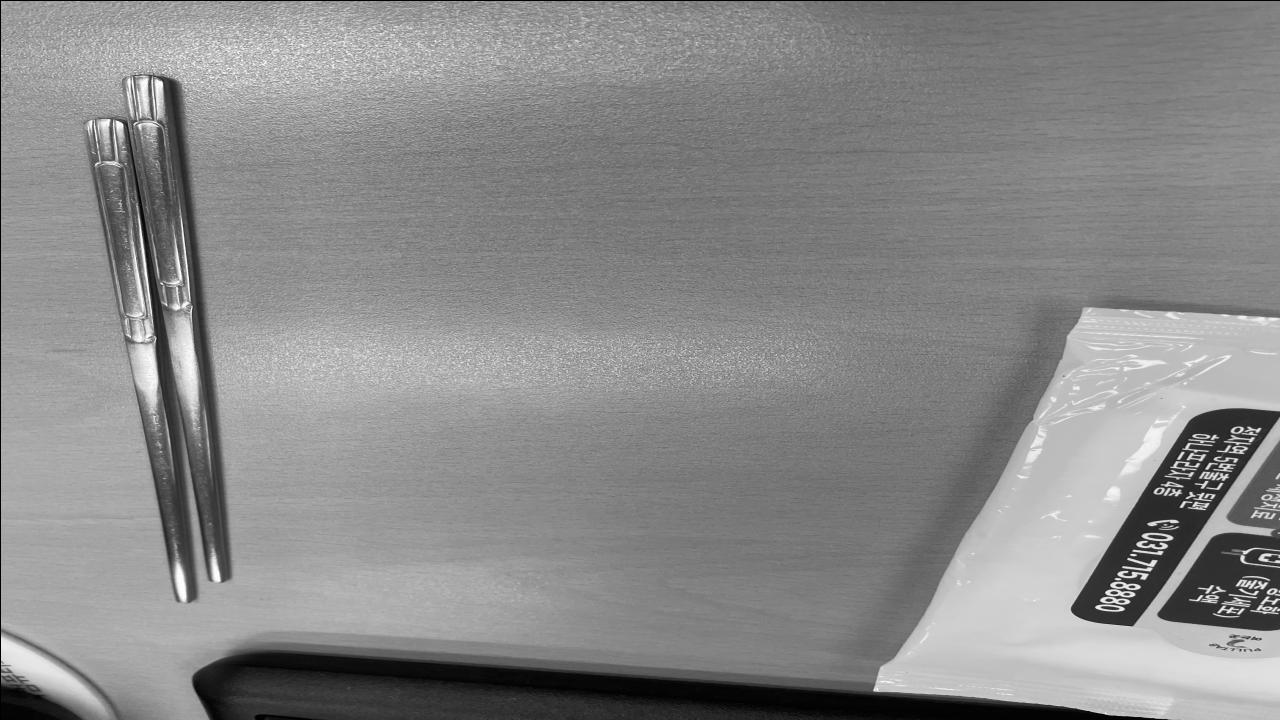chopstick: (80, 74, 228, 602)
